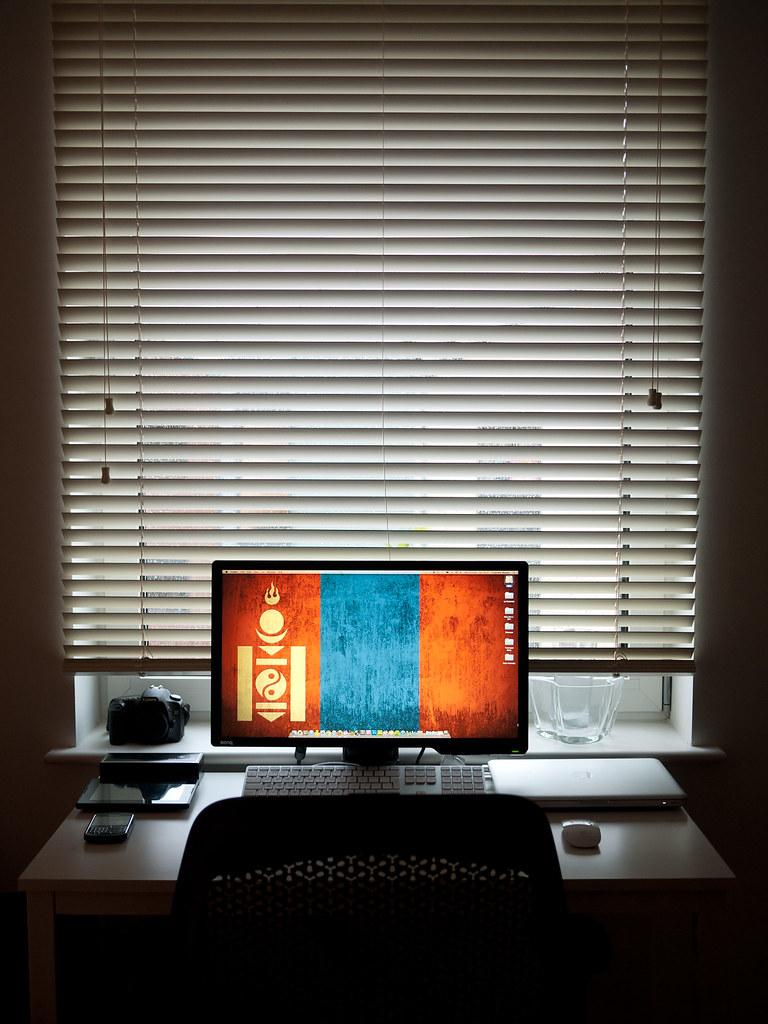computer: (210, 560, 531, 769), (488, 757, 688, 810)
